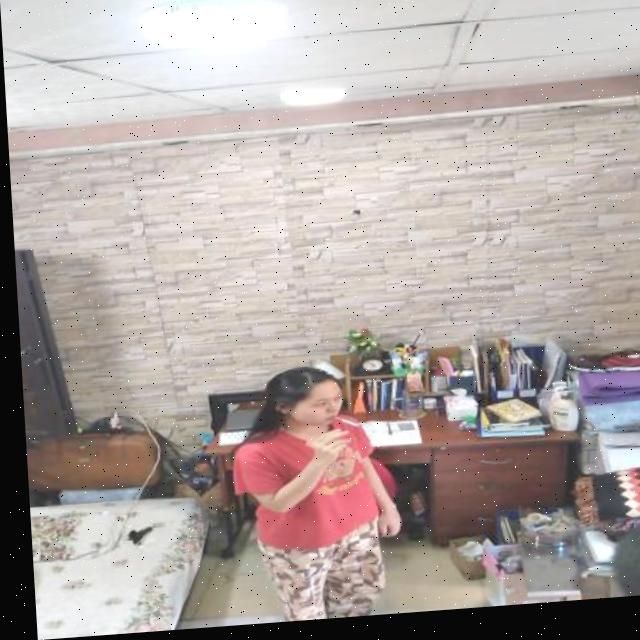cigarette: (329, 420, 354, 433)
